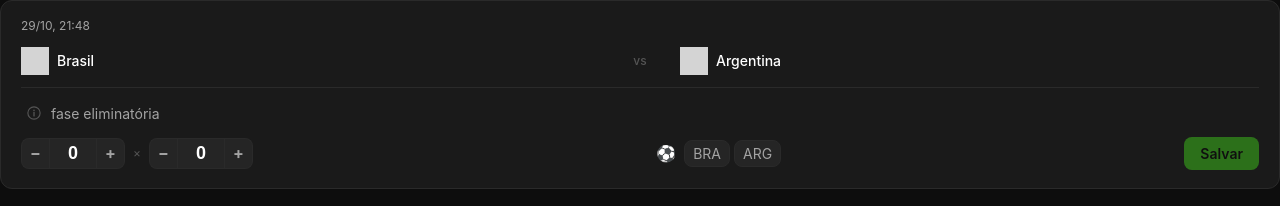
Test: MatchCard – penalty shootout pick › shows the penalty picker only while the score is a draw (score mode)
Expected: the element named "Quem vence nos pênaltis?" is shown, [656,140,781,166]
// 0-0 → 1-0 decisive → collapsed.
Click the button named "Aumentar placar Brasil".
click(111, 153)  # box [97,138,125,168]
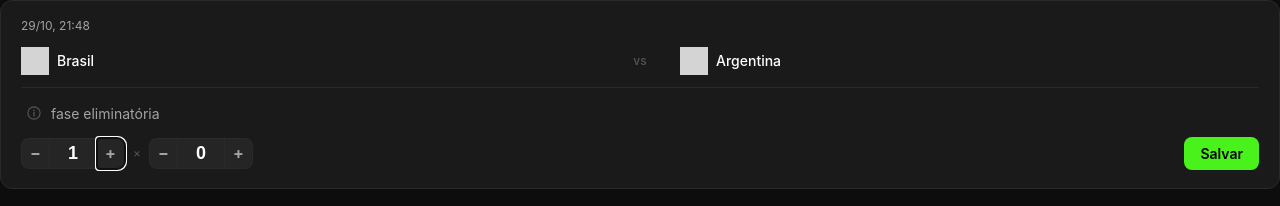
// 1-0 → 1-1 draw again → shown.
Click the button named "Aumentar placar Argentina".
click(239, 153)  # box [225,138,253,168]
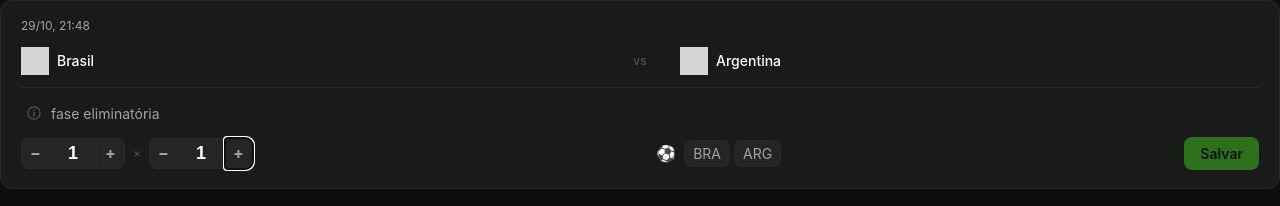
Result: the element named "Quem vence nos pênaltis?" is shown at [656,140,781,166]
